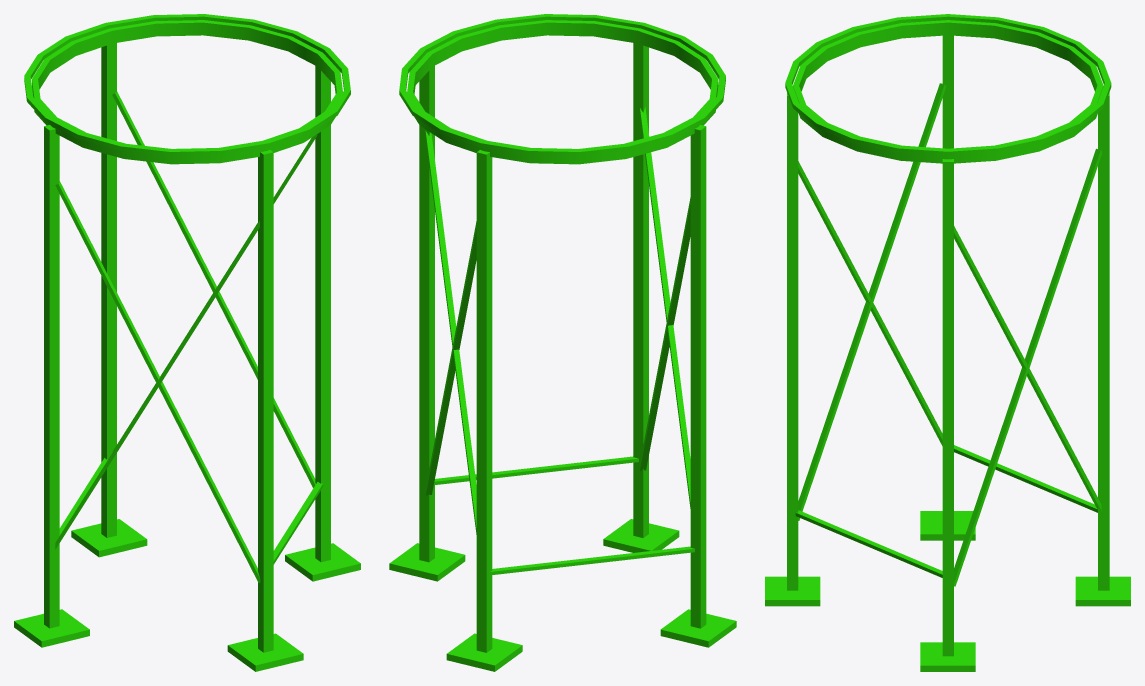
Rendered from Factory_Silo_01A.fbx.
3 views of the same model, side by side, from view 1: azimuth 30°, elevation 25°; view 2: azimuth 150°, elevation 25°; view 3: azimuth 270°, elevation 25° (orthographic).
Parts seen in each view (by area): view 1: Factory_Silo_01A; view 2: Factory_Silo_01A; view 3: Factory_Silo_01A.
Part boxes in pixels (x1=…): Factory_Silo_01A: x1=14, y1=14, x2=360, y2=671; Factory_Silo_01A: x1=389, y1=14, x2=736, y2=671; Factory_Silo_01A: x1=765, y1=14, x2=1130, y2=671.
Bounding box in the file's own units: 826 × 1276 × 827.
